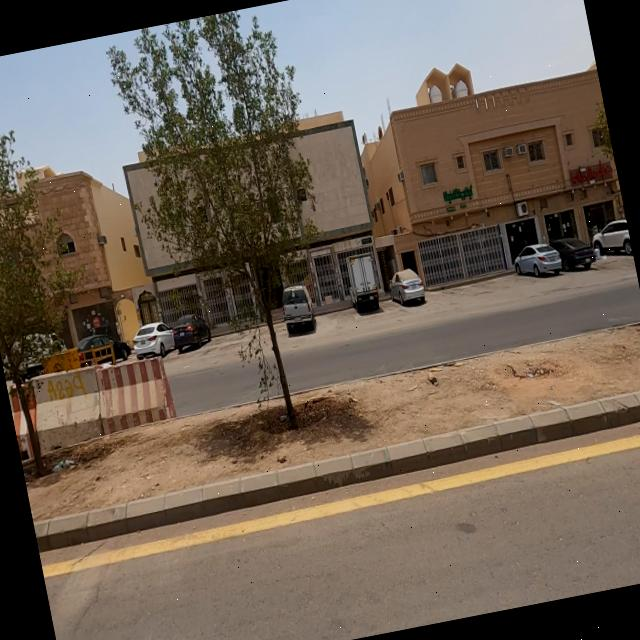Graffiti: (45, 373, 85, 403)
